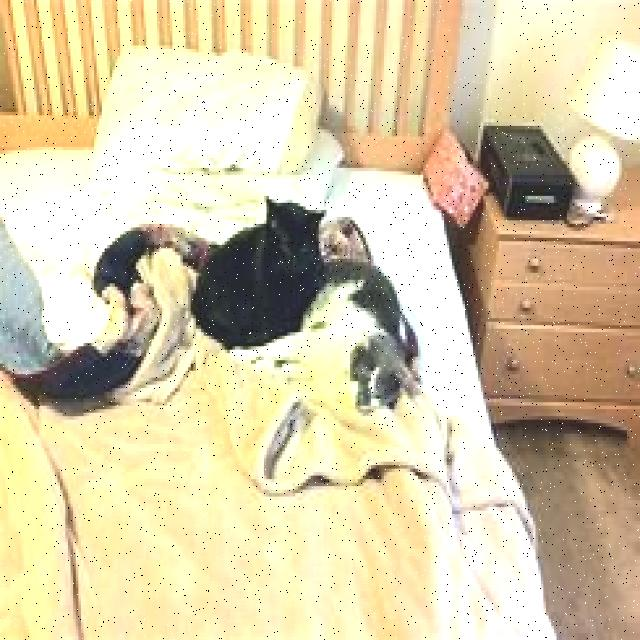bed: (0, 42, 513, 640)
